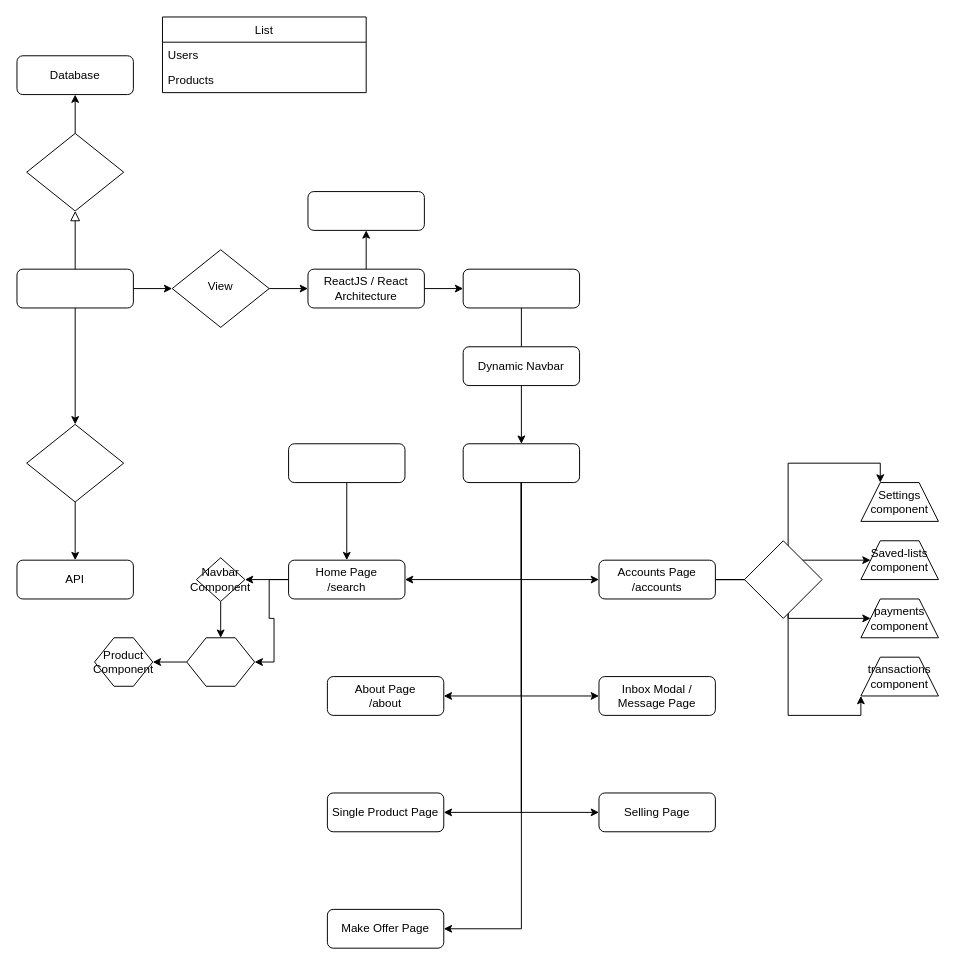
The diagram is 955 pixels wide and 965 high, and some of its shapes have lost their labels. Here are the shapes that lost their labels. From the top down, the centre of each, then its label:
At (x=75, y=171): "Model".
At (x=365, y=210): "MaterialUI".
At (x=74, y=288): "ExprerssJS / Server".
At (x=521, y=288): "App.js".
At (x=75, y=462): "Controller".
At (x=346, y=463): "Login / Logout Page or Modal".
At (x=521, y=463): "Router to Pages".
At (x=783, y=579): "Accounts Page Navbar component".
At (x=220, y=661): "Product Grid Section".
